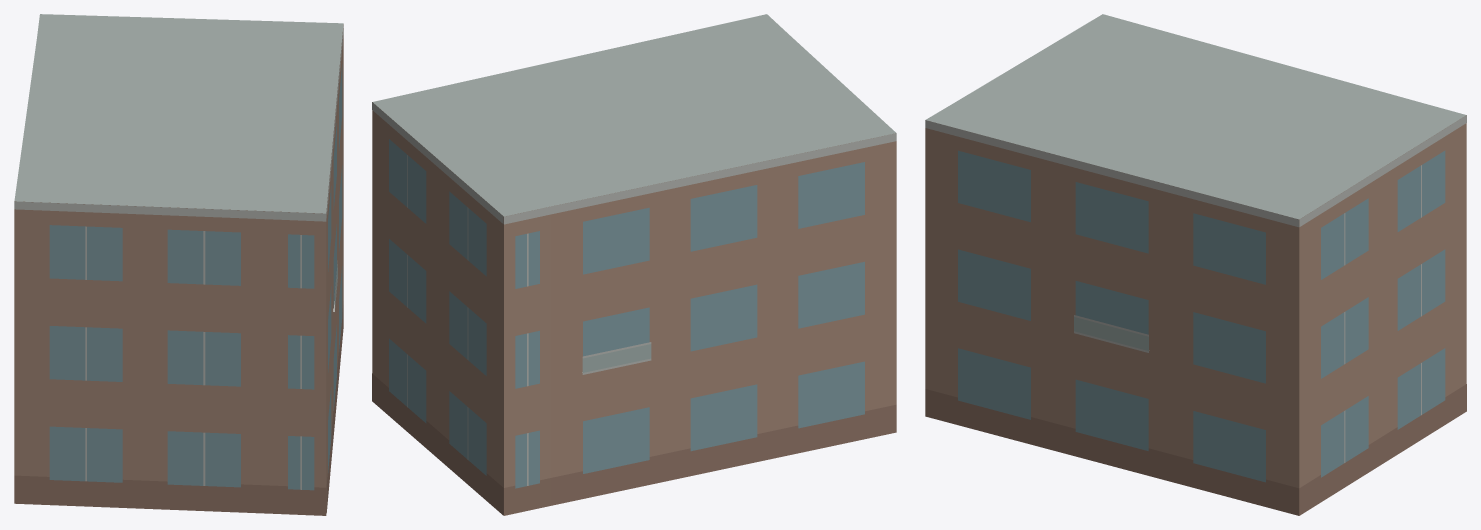
The model's file is survey-upis-32893179.glb.
The picture shows the model from 3 angles, left to right: view 1: azimuth 30°, elevation 25°; view 2: azimuth 150°, elevation 25°; view 3: azimuth 270°, elevation 25°; orthographic projection.
Parts seen in each view (by area): view 1: survey-upis-32893179.tmp; view 2: survey-upis-32893179.tmp; view 3: survey-upis-32893179.tmp.
Part boxes in pixels (left/top/right/bottom): survey-upis-32893179.tmp: left=14, top=14, right=343, bottom=515; survey-upis-32893179.tmp: left=372, top=14, right=896, bottom=515; survey-upis-32893179.tmp: left=925, top=14, right=1466, bottom=515.
Bounding box in the file's own units: 13.61 × 9.15 × 15.16.
